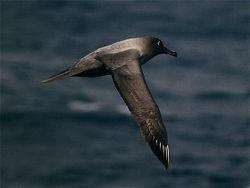bird: (39, 35, 176, 170)
